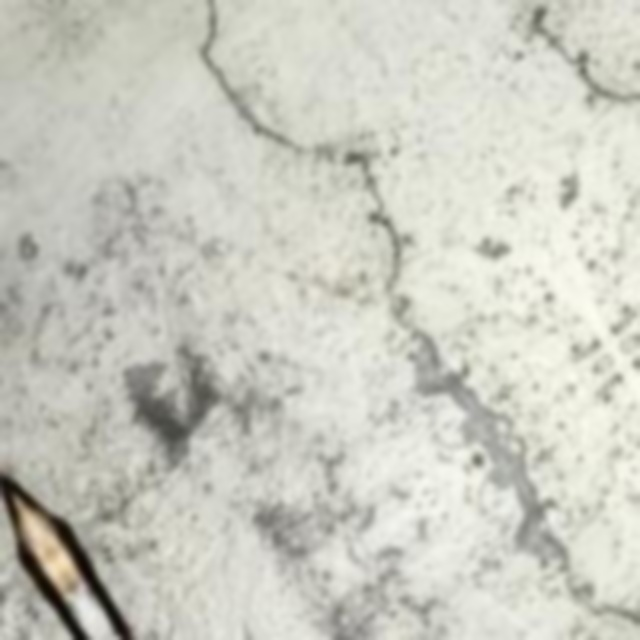SurfaceCrack: (176, 6, 438, 380), (516, 8, 640, 130)
